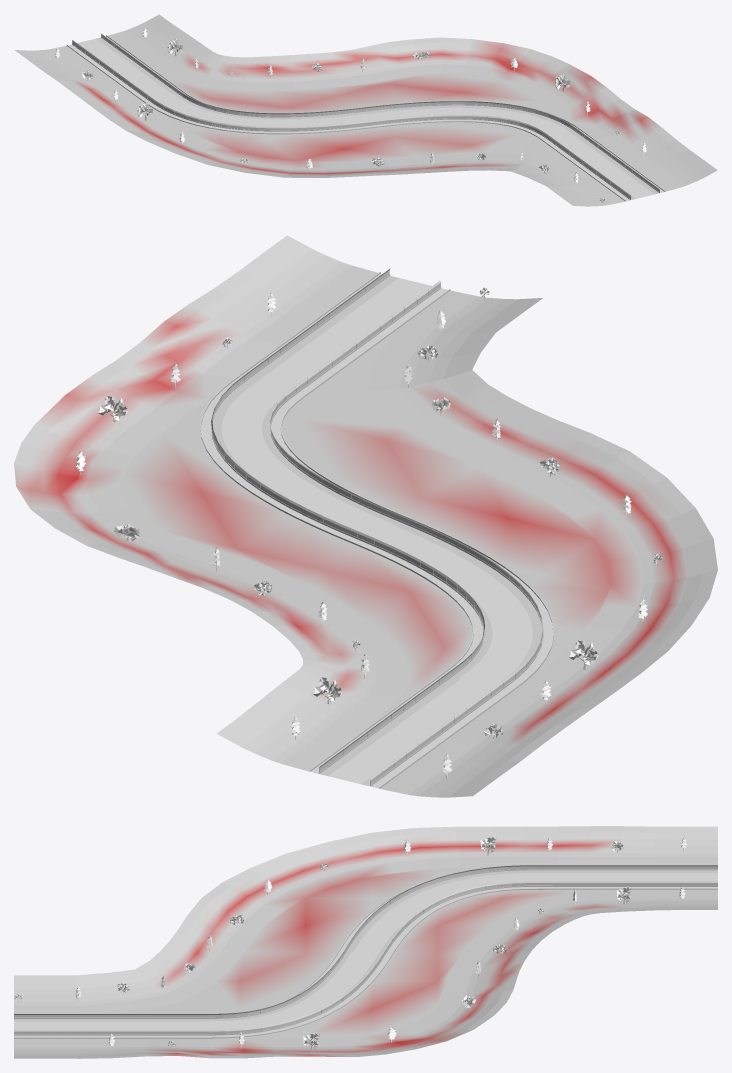
The picture shows the model from 3 angles, top to bottom: view 1: azimuth 30°, elevation 25°; view 2: azimuth 150°, elevation 25°; view 3: azimuth 270°, elevation 25°; orthographic projection. The views are drawn at different scales.
Visible parts, largest first — view 1: Grass, Road, Track, WireFence, Trees; view 2: Grass, Road, Track, WireFence, Trees; view 3: Grass, Road, Track, WireFence, Trees.
Part boxes in pixels (x1,y1,x2,y2): Grass: (14, 14, 717, 206); Road: (78, 38, 653, 198); Track: (66, 33, 665, 201); WireFence: (72, 33, 659, 198); Trees: (55, 27, 646, 203); Grass: (14, 235, 717, 797); Road: (222, 278, 531, 783); Track: (200, 272, 554, 788); WireFence: (211, 268, 543, 784); Trees: (76, 287, 662, 777); Grass: (14, 826, 717, 1058); Road: (14, 873, 717, 1029); Track: (14, 865, 717, 1038); WireFence: (14, 865, 717, 1034); Trees: (14, 836, 687, 1049).
Size of what is drawn, in the model's own units: 39000 by 1702 by 50000.
